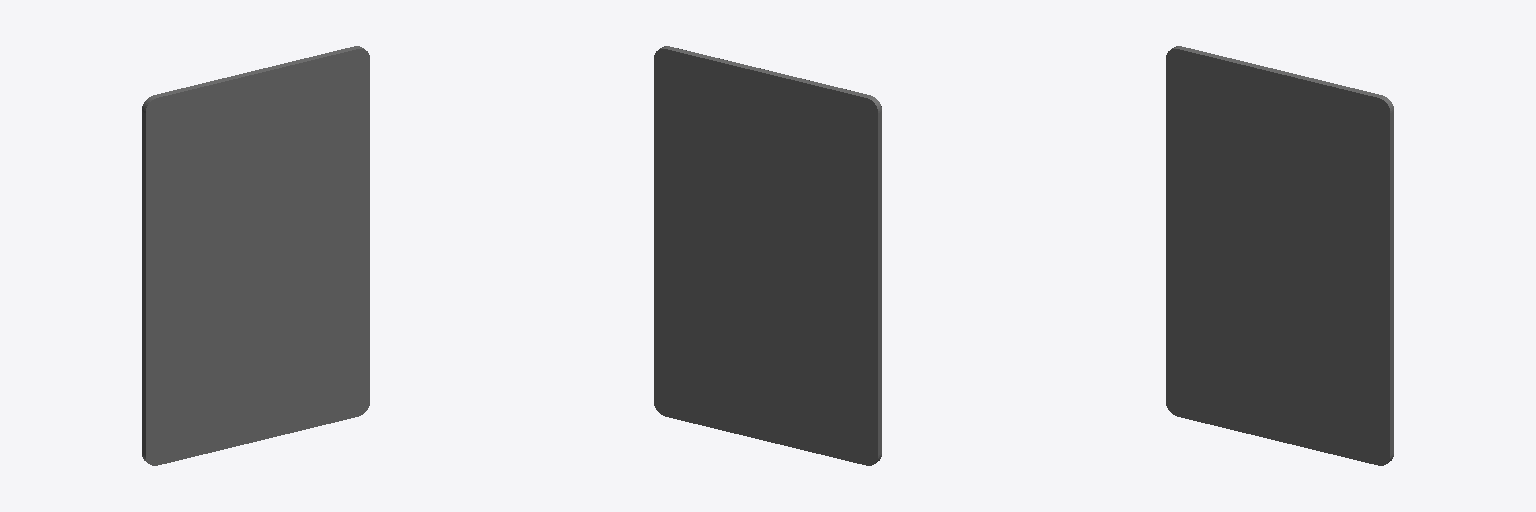
File: macbook_body.obj
3 views of the same model, side by side, from view 1: azimuth 30°, elevation 25°; view 2: azimuth 150°, elevation 25°; view 3: azimuth 330°, elevation 25° (orthographic).
Visible parts, largest first — view 1: TopCase, bottomCase; view 2: bottomCase; view 3: TopCase, bottomCase.
Part boxes in pixels (x1,y1,x2,y2): TopCase: (146,49,369,465); bottomCase: (142,46,363,462); bottomCase: (654,46,881,465); TopCase: (1166,49,1389,465); bottomCase: (1172,46,1393,462).
Size of the model in its own units: 18.88 by 29.55 by 0.5487.